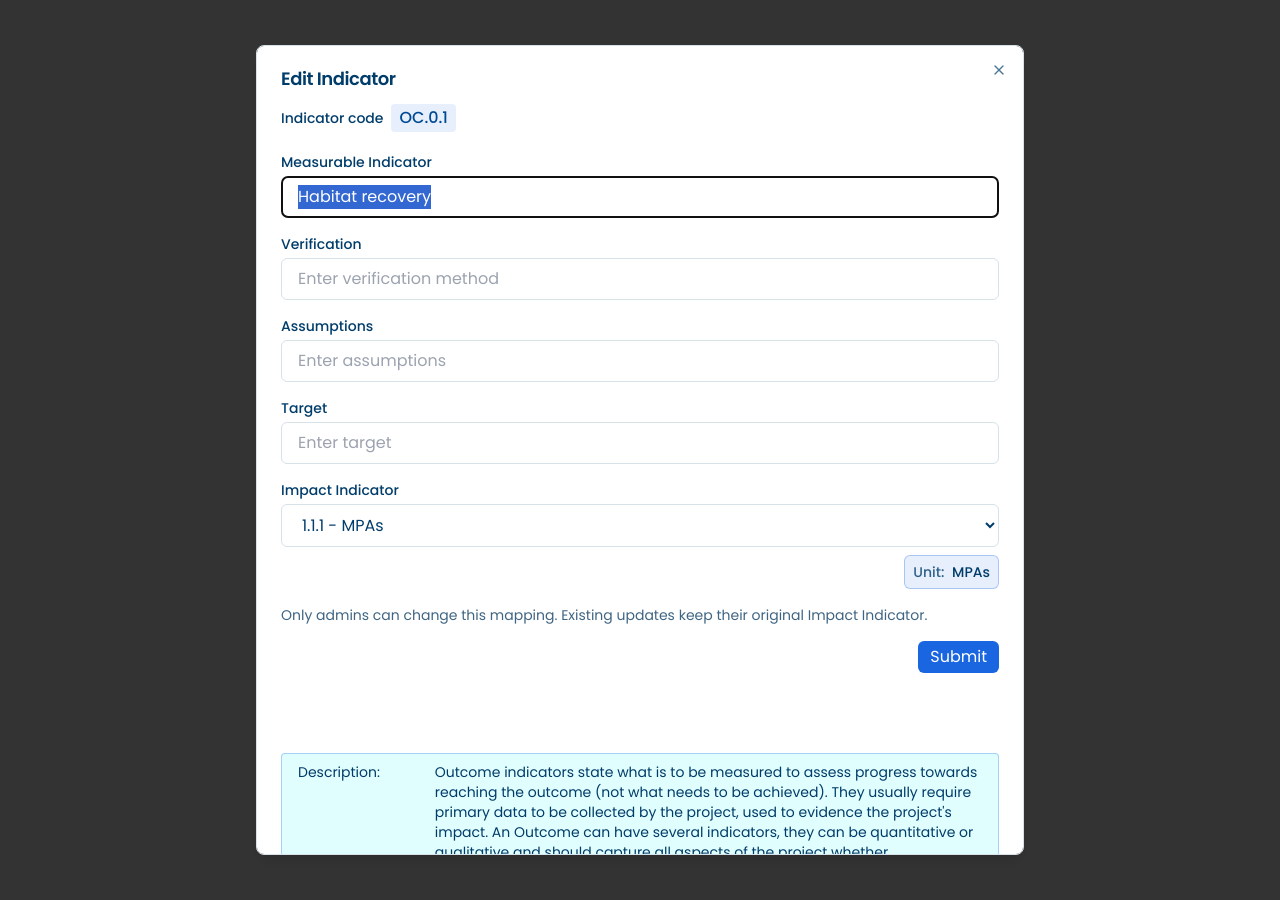
Test: a returned server error is shown to the user without closing the outcome dialog
The width and height of the screenshot is (1280, 900).
Step 1. Click the button "Submit" → x=959, y=657, box [918,641,999,673]
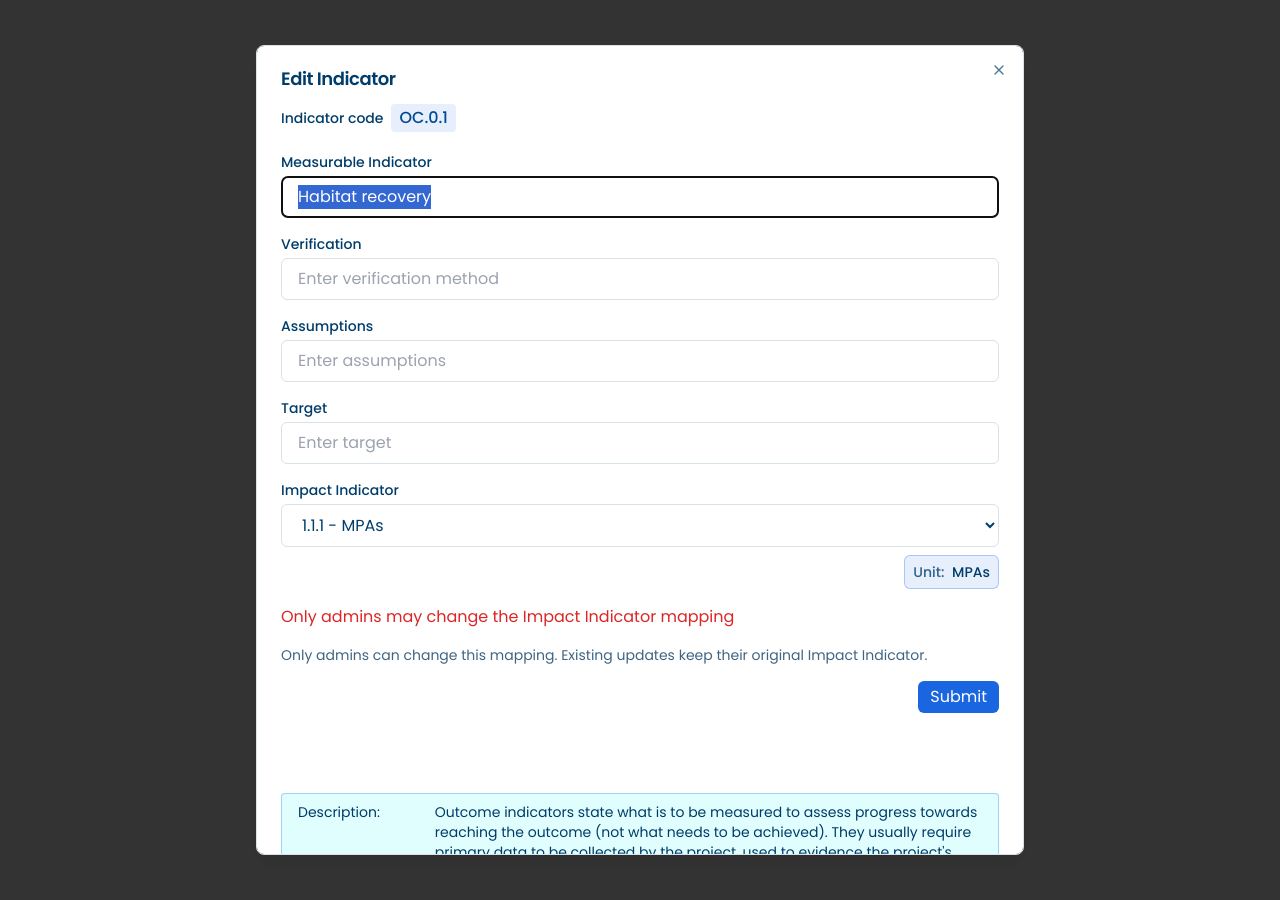
Check: the message reads "Only admins may change the Impact Indicator mapping", box [281,605,734,628]
